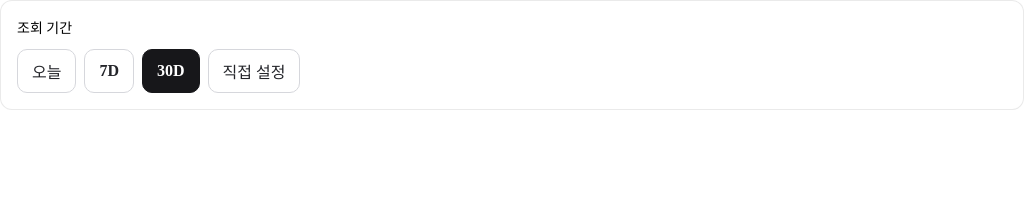
Test case: AnalyticsWindowControl › offers Today, 7D, 30D and Custom with canonical output
Click the button "7D".
click(109, 71)  # box 84,49 -> 134,93
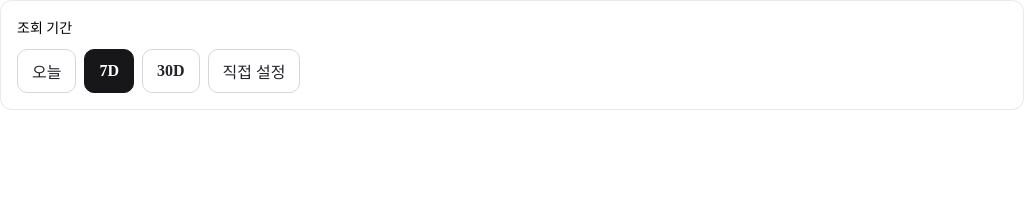
Click the button "직접 설정".
click(254, 71)  # box 208,49 -> 300,93
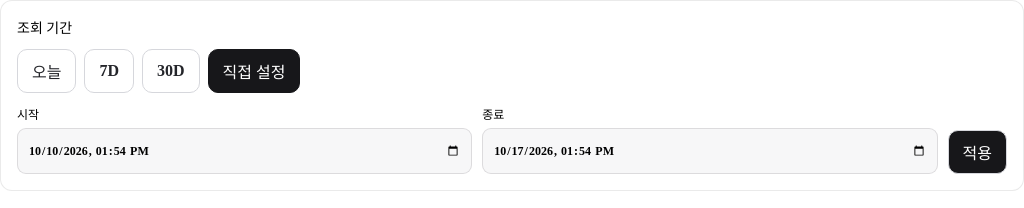
Expected: the field labelled "시작" is shown, 17,128 -> 472,174
